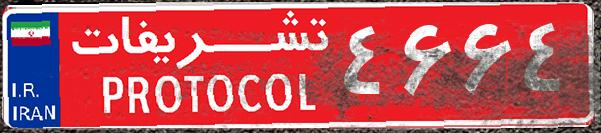4: (340, 20, 400, 115), (520, 20, 580, 115)
6: (400, 20, 460, 115), (460, 20, 520, 115)
تشریفات: (60, 8, 340, 125)
